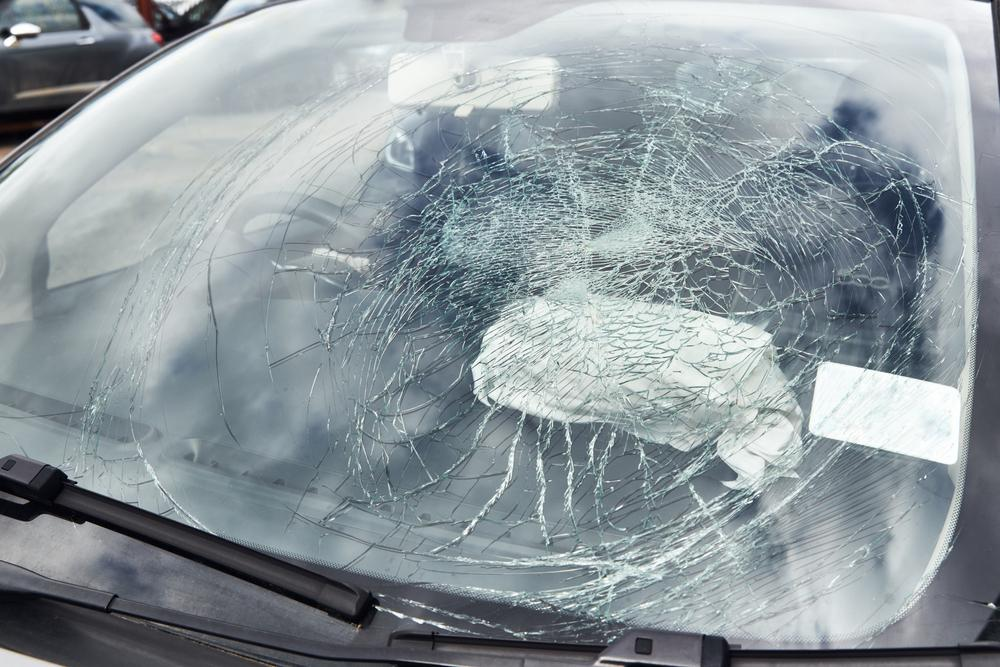glass shatter: (0, 0, 1000, 650)
